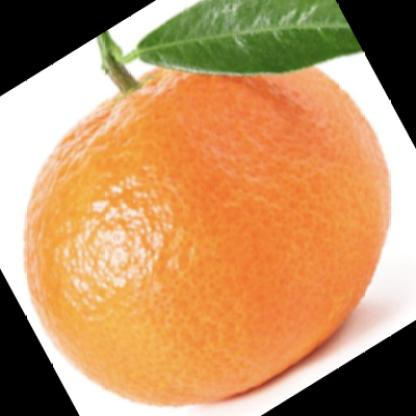fresh: (24, 52, 391, 406)
